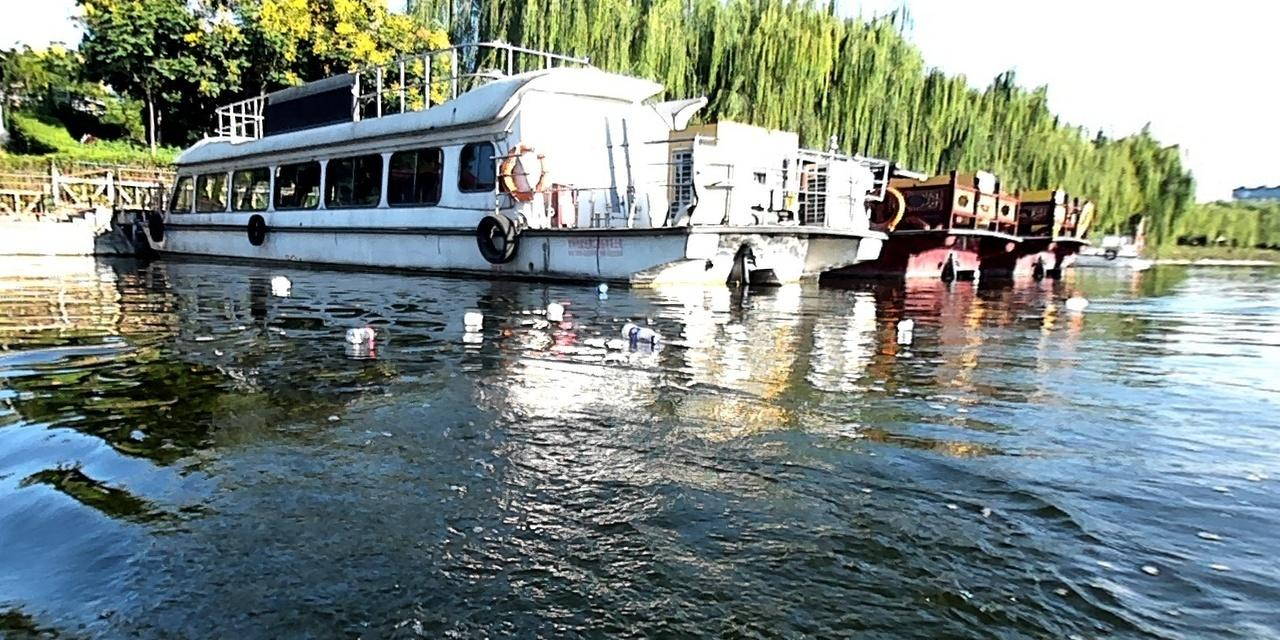bottle: (617, 318, 658, 344), (341, 324, 379, 343), (460, 308, 487, 329), (267, 270, 293, 288), (541, 299, 563, 315)
